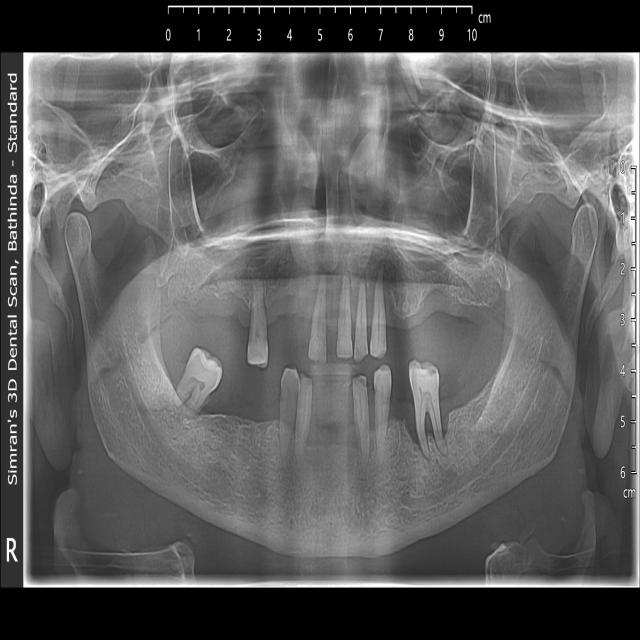Missing teeth: (203, 383, 277, 445), (389, 294, 475, 345), (310, 397, 357, 453), (194, 287, 249, 332), (269, 301, 309, 344)
